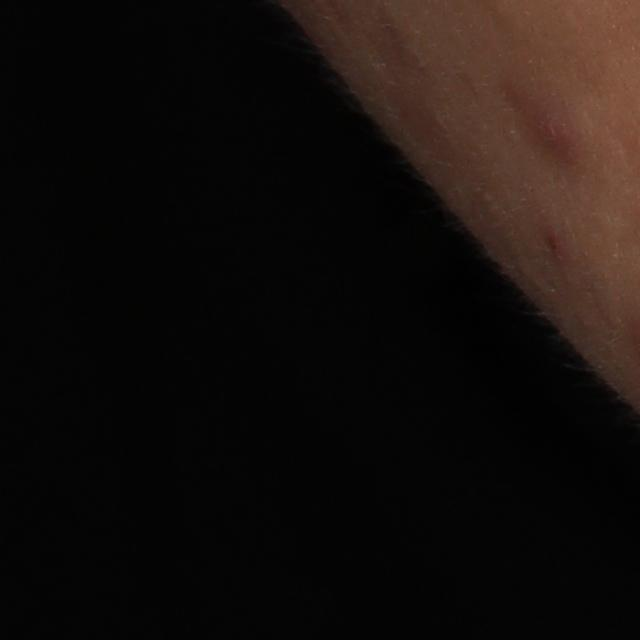papule: (528, 110, 583, 163)
